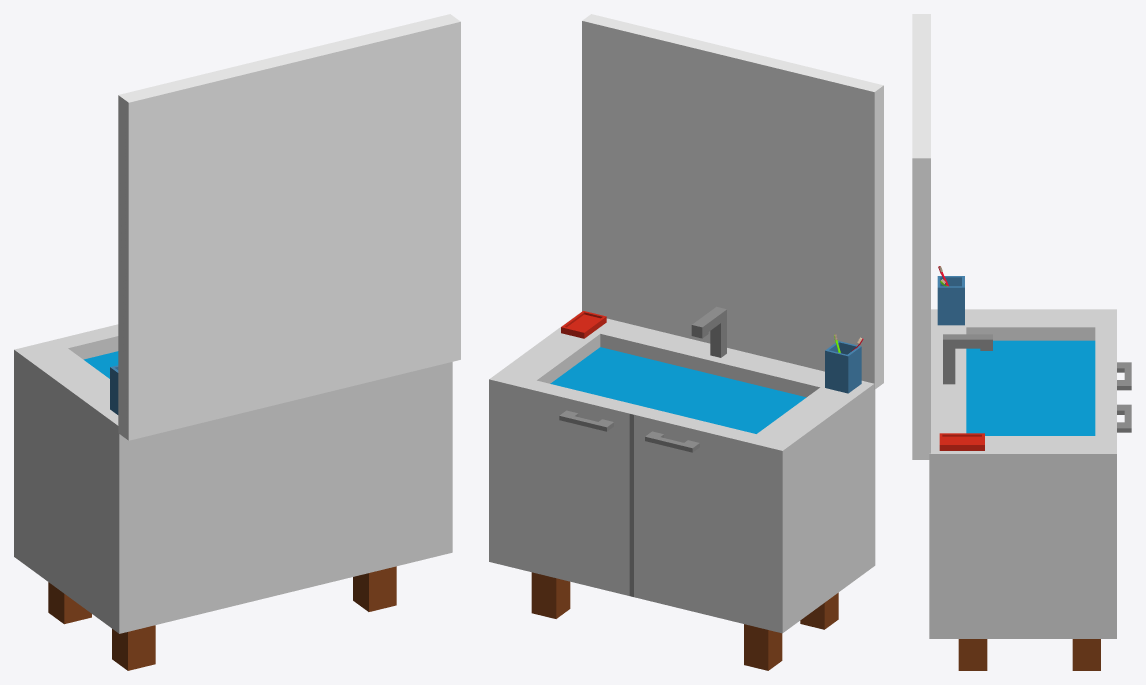
File: furniture.glb
3 renders of one model, left to right at view 1: azimuth 30°, elevation 25°; view 2: azimuth 150°, elevation 25°; view 3: azimuth 270°, elevation 25°, orthographic. The views are drawn at different scales.
Visible parts, largest first — view 1: furniture glass, furniture bloc, furniture foot; view 2: furniture glass, furniture bloc, furniture bloc water, furniture foot, furniture pot, furniture tap, furniture handle, furniture bloc line, furniture soap dish; view 3: furniture bloc, furniture bloc water, furniture glass, furniture foot, furniture pot, furniture tap, furniture soap dish, furniture handle.
Part boxes in pixels (x1,y1,x2,y2): furniture glass: (118,14,460,440); furniture bloc: (14,324,452,633); furniture foot: (48,566,396,670); furniture glass: (582,14,883,389); furniture bloc: (489,311,875,633); furniture bloc water: (550,347,806,433); furniture foot: (531,572,838,670); furniture pot: (825,341,861,393); furniture tap: (691,306,726,357); furniture handle: (559,410,699,452); furniture bloc line: (629,414,633,596); furniture soap dish: (561,311,606,338); furniture bloc: (929,309,1116,638); furniture bloc water: (966,340,1095,435); furniture glass: (912,14,930,459); furniture foot: (958,639,1100,670); furniture pot: (937,276,964,325); furniture tap: (943,334,992,384); furniture soap dish: (939,433,984,450); furniture handle: (1117,362,1131,432).
Bounding box in the file's own units: 1.32 × 2.24 × 0.8434.
